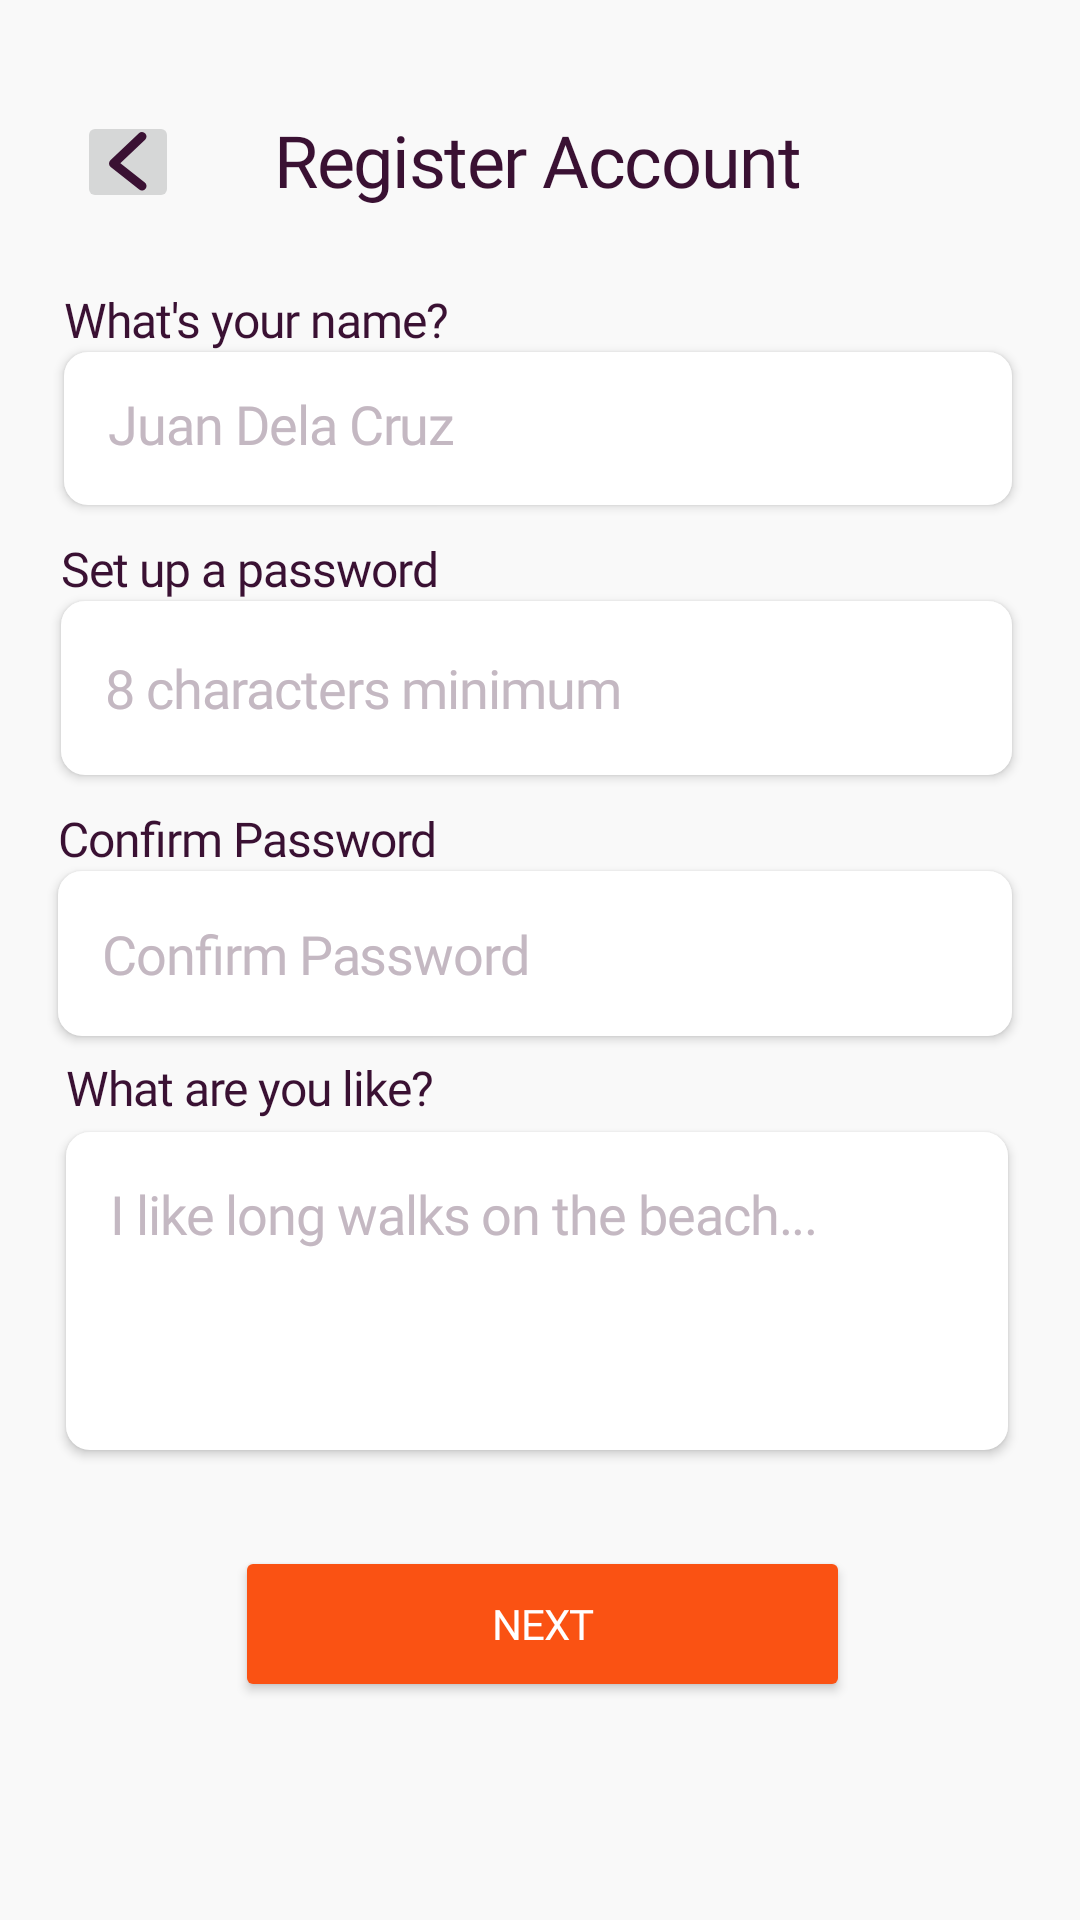

Screen size 1080px x 1920px. Icon name, then its box in pixels as (x1, y1, x2, y2):
back chevron: (89, 129, 167, 195)
